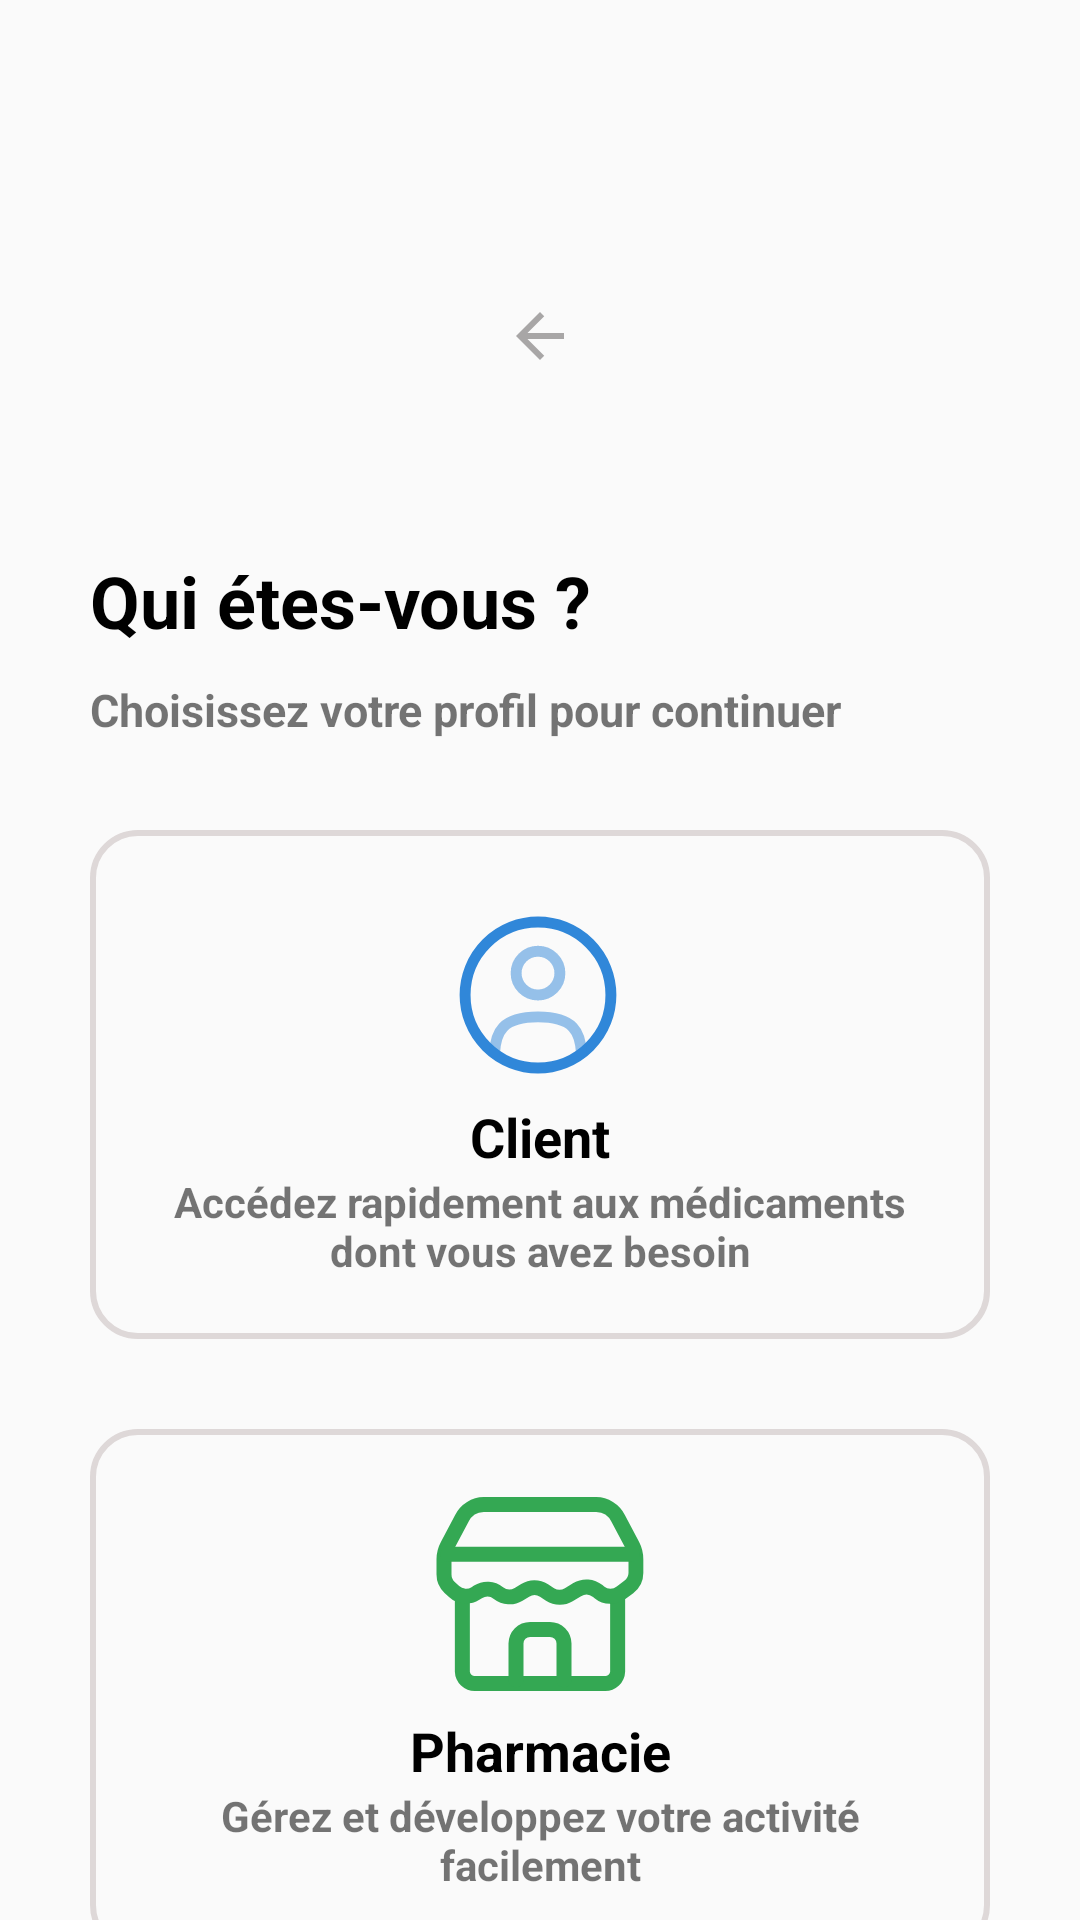

Where icons sit on this 1080px x 1920px app screen, as [x1,y1,x2,y2]:
arrow back: [516,312,564,360]
user: [459,916,617,1074]
